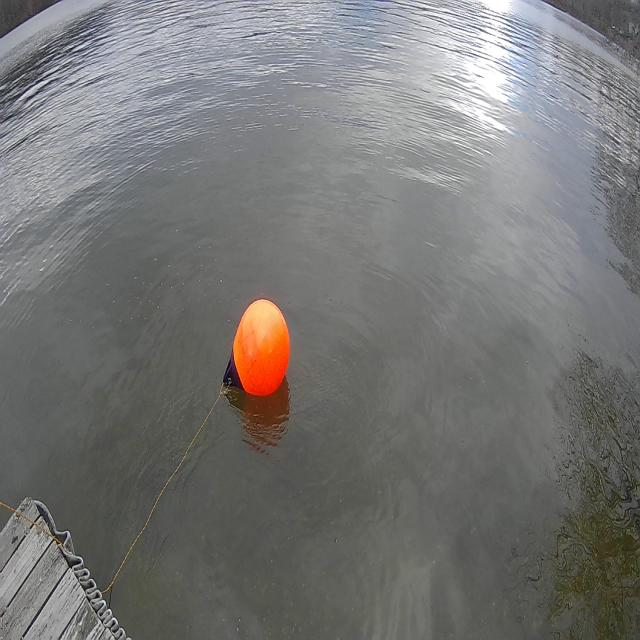Buoy: (229, 295, 292, 402)
